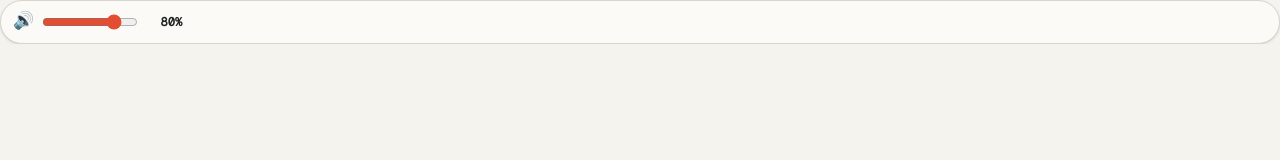
Scenario: ชุดที่สาม #4: เลื่อนไป 0 เท่ากับปิดเสียง และ icon เปลี่ยนเป็นเงียบ
The width and height of the screenshot is (1280, 160).
Set the slider named "ระดับเสียง Effect" to "0" at point(50, 22), box [42,18,138,26]
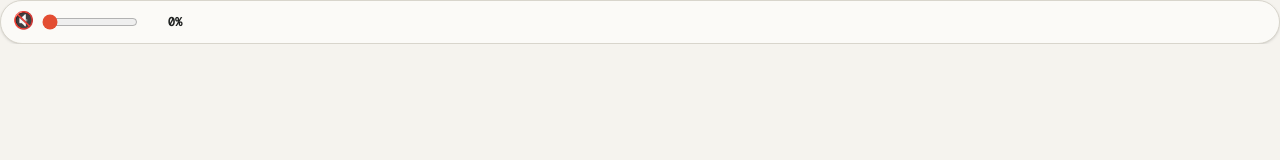
Result: the text "🔇" is shown at [13,8,34,34]
